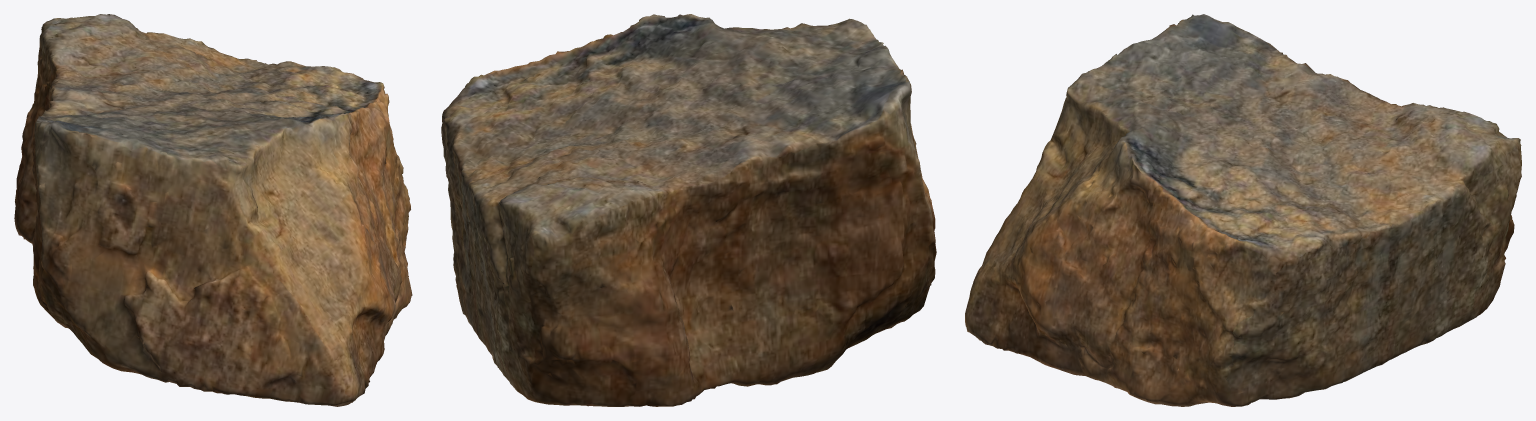
Rendered from boulder_real2.glb.
The picture shows the model from 3 angles, left to right: view 1: azimuth 30°, elevation 25°; view 2: azimuth 150°, elevation 25°; view 3: azimuth 270°, elevation 25°; orthographic projection. The views are drawn at different scales.
Parts seen in each view (by area): view 1: namaqualand_boulder_03_LOD1; view 2: namaqualand_boulder_03_LOD1; view 3: namaqualand_boulder_03_LOD1.
Boxes of the visible parts, box(x1,y1,x2,y2) form: namaqualand_boulder_03_LOD1: box(14, 14, 412, 406); namaqualand_boulder_03_LOD1: box(441, 14, 936, 406); namaqualand_boulder_03_LOD1: box(965, 14, 1521, 406).
Size of the model in its own units: 2.41 by 1.47 by 3.06.
1 material, 1 textured.
